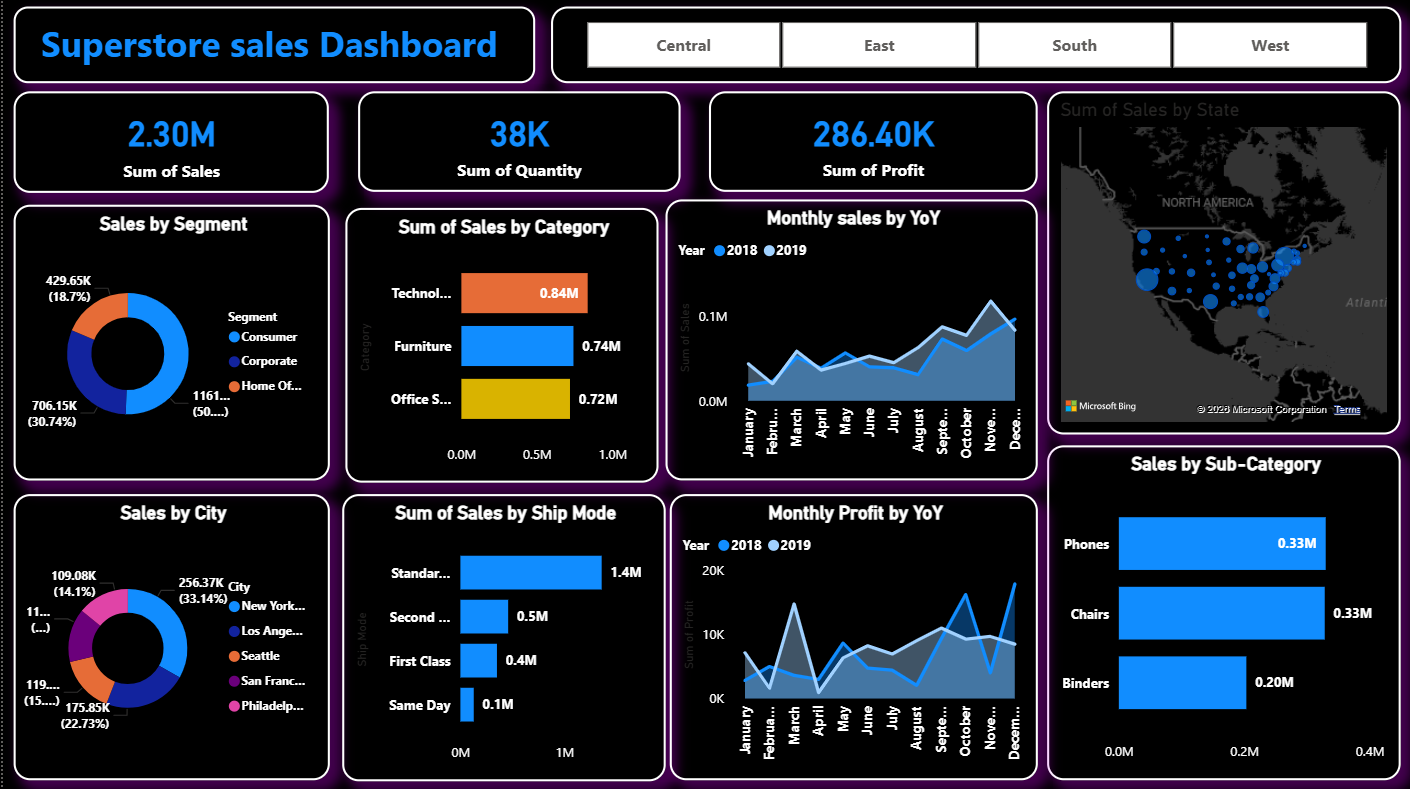

What the dashboard file says about the page in this screenshot:
{"tool":"powerbi","page":{"name":"Page 1","canvas":[1280,720],"ordinal":0},"visuals":[{"type":"textbox","box":[9.5,7.4,474.5,69.9],"z":0},{"type":"slicer","fields":{"Values":["Orders.Region"]},"box":[498.9,7.4,773.2,69.9],"z":1000},{"type":"card","fields":{"Values":["Sum(Orders.Sales)"]},"box":[9.5,84.7,287,92.1],"z":2000},{"type":"card","fields":{"Values":["Sum(Orders.Profit)"]},"box":[642.3,84.9,298.9,91.6],"z":3000},{"type":"card","fields":{"Values":["Sum(Orders.Quantity)"]},"box":[323.1,84.9,293.2,91.6],"z":4000},{"type":"map","fields":{"Category":["Orders.State"],"Size":["Sum(Orders.Sales)"]},"box":[949.9,84.9,322.1,312.4],"z":5000},{"type":"donutChart","title":"Sales by Segment","fields":{"Y":["Sum(Orders.Sales)"],"Category":["Orders.Segment"]},"box":[9.6,188,287.4,250.7],"z":6000},{"type":"donutChart","title":"Sales by City","fields":{"Y":["Sum(Orders.Sales)"],"Category":["Orders.City"]},"box":[9.6,451.3,287.4,260.4],"z":7000},{"type":"barChart","fields":{"Category":["Orders.Category"],"Y":["Sum(Orders.Sales)"]},"box":[311,191,285,250],"z":8000},{"type":"barChart","fields":{"Category":["Orders.Ship Mode"],"Y":["Sum(Orders.Sales)"]},"box":[309,451,294,261],"z":9000},{"type":"barChart","title":" Sales by Sub-Category","fields":{"Category":["Orders.Sub-Category"],"Y":["Sum(Orders.Sales)"]},"box":[949.9,407,322.1,304.7],"z":10000},{"type":"lineChart","title":"Monthly sales by YoY","fields":{"Category":["Orders.Order Date.Variation.Date Hierarchy.Month"],"Y":["Sum(Orders.Sales)"],"Series":["Orders.Order Date.Variation.Date Hierarchy.Year"]},"box":[602.7,183.2,338.5,255.5],"z":11000},{"type":"lineChart","title":"Monthly Profit by YoY","fields":{"Category":["Orders.Order Date.Variation.Date Hierarchy.Month"],"Y":["Sum(Orders.Profit)"],"Series":["Orders.Order Date.Variation.Date Hierarchy.Year"]},"box":[606.6,451.3,334.6,260.4],"z":12000}]}

Visuals, with their boxes in screenshot pixels (x1, y1, x2, y2), scaled from the page's 1280x720 canvas onto the 1410x789 screenshot:
textbox: region(10, 8, 533, 85)
slicer - Orders.Region: region(550, 8, 1401, 85)
card - Sum(Orders.Sales): region(10, 93, 327, 194)
card - Sum(Orders.Profit): region(708, 93, 1037, 193)
card - Sum(Orders.Quantity): region(356, 93, 679, 193)
map - Orders.State x Sum(Orders.Sales): region(1046, 93, 1401, 435)
"Sales by Segment" donutChart: region(11, 206, 327, 481)
"Sales by City" donutChart: region(11, 495, 327, 780)
barChart - Orders.Category x Sum(Orders.Sales): region(343, 209, 657, 483)
barChart - Orders.Ship Mode x Sum(Orders.Sales): region(340, 494, 664, 780)
" Sales by Sub-Category" barChart: region(1046, 446, 1401, 780)
"Monthly sales by YoY" lineChart: region(664, 201, 1037, 481)
"Monthly Profit by YoY" lineChart: region(668, 495, 1037, 780)
